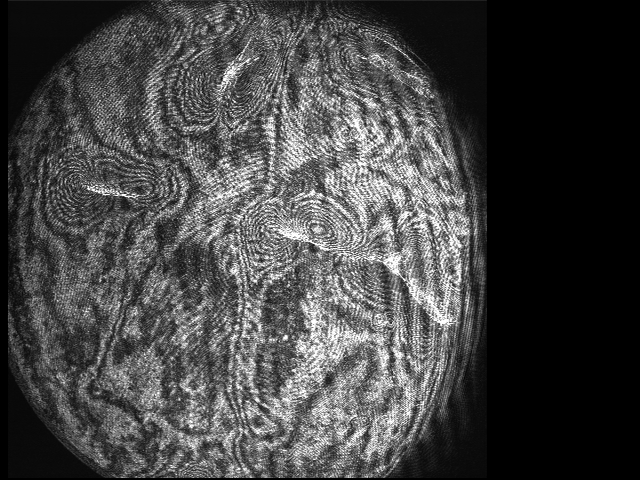plume: (167, 35, 285, 127), (235, 190, 359, 262), (54, 154, 183, 222)
